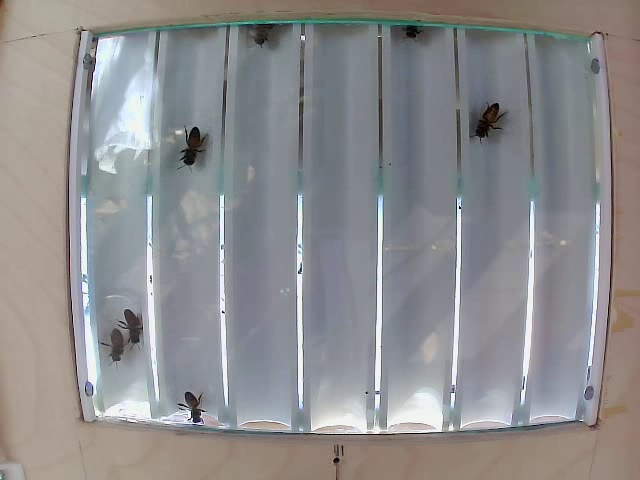bee: (97, 327, 146, 383), (175, 392, 224, 437), (167, 124, 213, 159), (472, 99, 508, 142), (389, 14, 428, 52), (114, 304, 157, 338), (237, 20, 278, 49)
